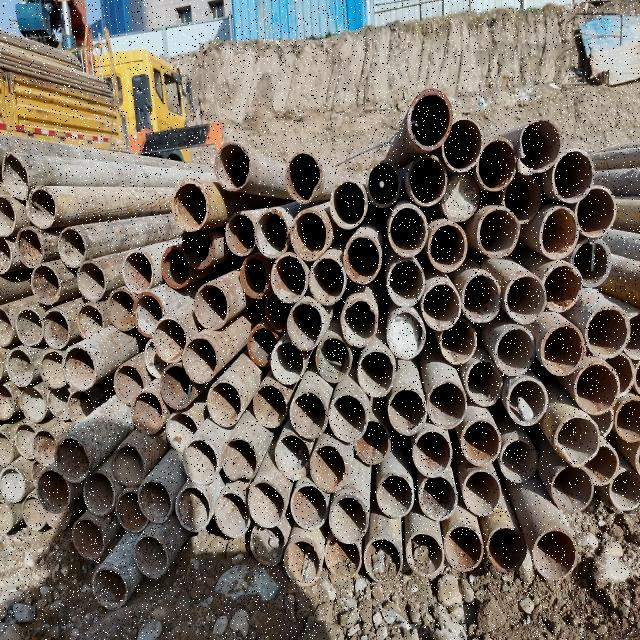pipe: (407, 89, 454, 151), (584, 302, 632, 360), (555, 412, 601, 470), (474, 207, 522, 261), (402, 151, 448, 207), (381, 308, 429, 361), (571, 360, 619, 412), (532, 529, 578, 583), (576, 184, 620, 240), (492, 322, 536, 378), (534, 324, 584, 372), (386, 206, 432, 258), (550, 150, 596, 202), (474, 138, 518, 192), (460, 271, 502, 327), (538, 205, 582, 258), (412, 472, 458, 522), (423, 378, 469, 428), (503, 272, 547, 324), (518, 118, 562, 170), (541, 258, 583, 312), (328, 388, 367, 446), (169, 176, 209, 232), (289, 206, 329, 262), (546, 464, 594, 510), (459, 418, 503, 468), (499, 436, 543, 486), (284, 299, 324, 353), (386, 257, 426, 311), (428, 220, 468, 274), (573, 234, 613, 288), (508, 374, 548, 428), (308, 258, 350, 308), (212, 140, 252, 192), (248, 476, 288, 528), (308, 440, 348, 492), (440, 170, 480, 222), (420, 280, 460, 332), (486, 521, 524, 575), (59, 343, 101, 391), (192, 283, 234, 331), (372, 472, 414, 520), (284, 150, 322, 203), (268, 252, 308, 302), (287, 390, 327, 440), (503, 172, 543, 222), (218, 432, 256, 484), (272, 430, 310, 482), (288, 482, 329, 530), (328, 496, 369, 544), (175, 482, 212, 534), (366, 160, 406, 208), (364, 537, 404, 585), (253, 205, 289, 258), (181, 335, 219, 385), (214, 490, 252, 540), (328, 180, 366, 230), (357, 350, 395, 400), (388, 387, 426, 437), (445, 523, 483, 573), (108, 441, 148, 487), (284, 538, 324, 584), (404, 532, 444, 578), (412, 432, 452, 478), (463, 470, 501, 518), (446, 120, 481, 172), (348, 420, 389, 464), (103, 286, 139, 336), (51, 435, 90, 481), (247, 521, 286, 567), (439, 318, 478, 364), (466, 359, 503, 407), (90, 564, 130, 608), (207, 383, 246, 428), (132, 533, 170, 579), (315, 336, 353, 382), (583, 441, 621, 487), (129, 390, 165, 438), (267, 341, 305, 386), (252, 382, 287, 430), (69, 516, 107, 560), (323, 536, 361, 580), (34, 468, 70, 514), (136, 478, 172, 524), (0, 148, 31, 200), (28, 264, 66, 306), (119, 250, 157, 292), (183, 440, 219, 484), (130, 290, 164, 336), (608, 343, 636, 398), (159, 242, 191, 290), (179, 229, 217, 269), (82, 472, 116, 516), (163, 410, 197, 454), (221, 210, 255, 254), (72, 262, 109, 302), (112, 490, 149, 530), (246, 323, 276, 371), (12, 306, 44, 350), (237, 254, 269, 298), (610, 466, 640, 512), (110, 366, 146, 404), (14, 225, 45, 268), (28, 426, 58, 470), (24, 187, 56, 227), (39, 308, 69, 348), (616, 395, 640, 445), (6, 343, 32, 388), (56, 228, 84, 268), (261, 291, 285, 337), (44, 386, 72, 424), (18, 386, 46, 422), (18, 496, 46, 532), (37, 350, 63, 388), (62, 389, 92, 421), (73, 304, 103, 334), (142, 340, 162, 380), (2, 464, 24, 500), (39, 506, 71, 530), (0, 234, 16, 278), (14, 423, 34, 458), (0, 192, 16, 232), (0, 428, 16, 466), (1, 385, 17, 417), (1, 302, 12, 348), (0, 503, 12, 537), (30, 458, 44, 486)
